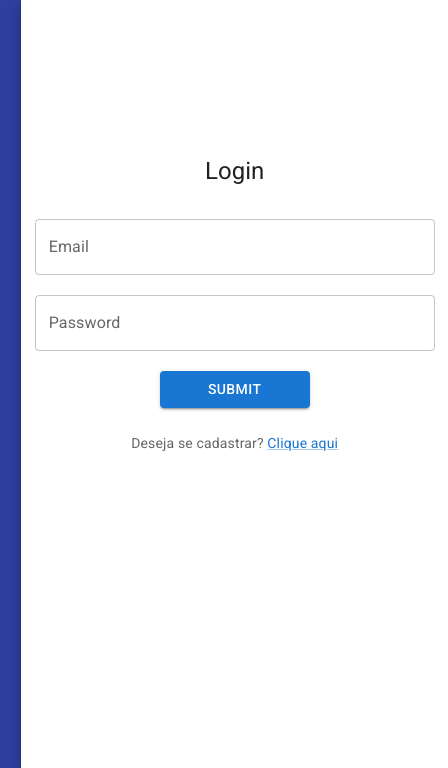
Test: LoginPage › deve limpar mensagens de erro ao digitar
The width and height of the screenshot is (448, 768).
Type "email-invalido" into the field labelled "Email".
click(235, 247); type("email-invalido")  # box [35,219,435,275]
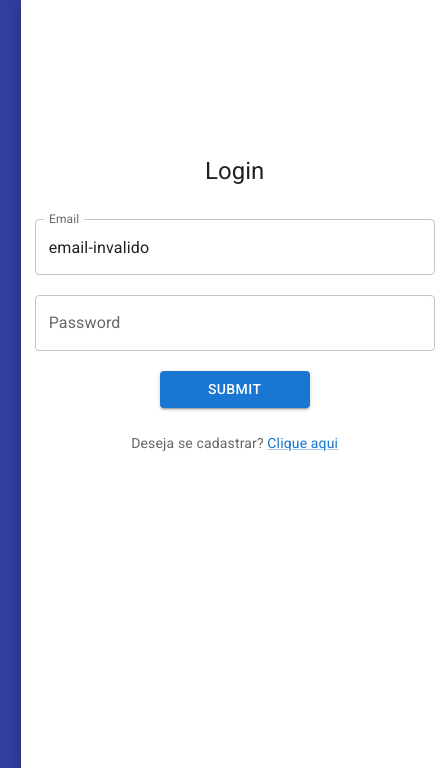
Click the button "Submit".
click(235, 390)  # box [160,371,310,408]
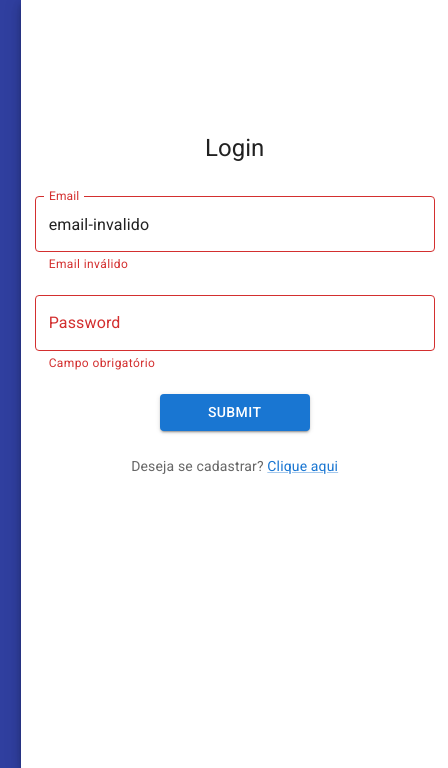
Expected: the text "Email inválido" is shown, [49,257,128,271]
Replace the text in the field labelled "Email" with "usuario@example.com" at [235, 224], box [35,196,435,252]
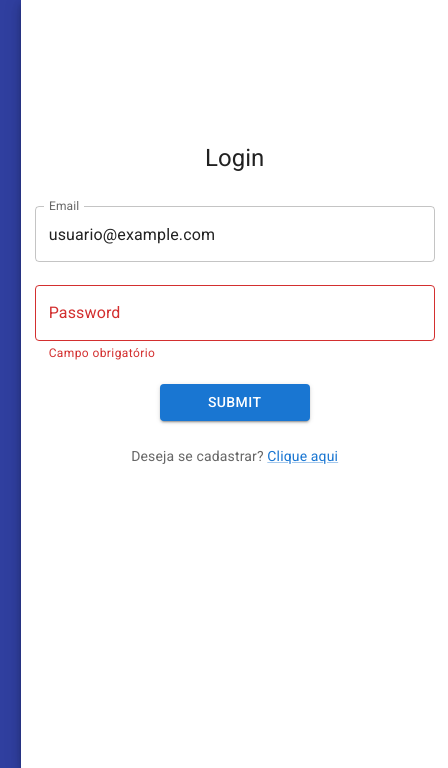
Expected: the text "Email inválido" is gone
